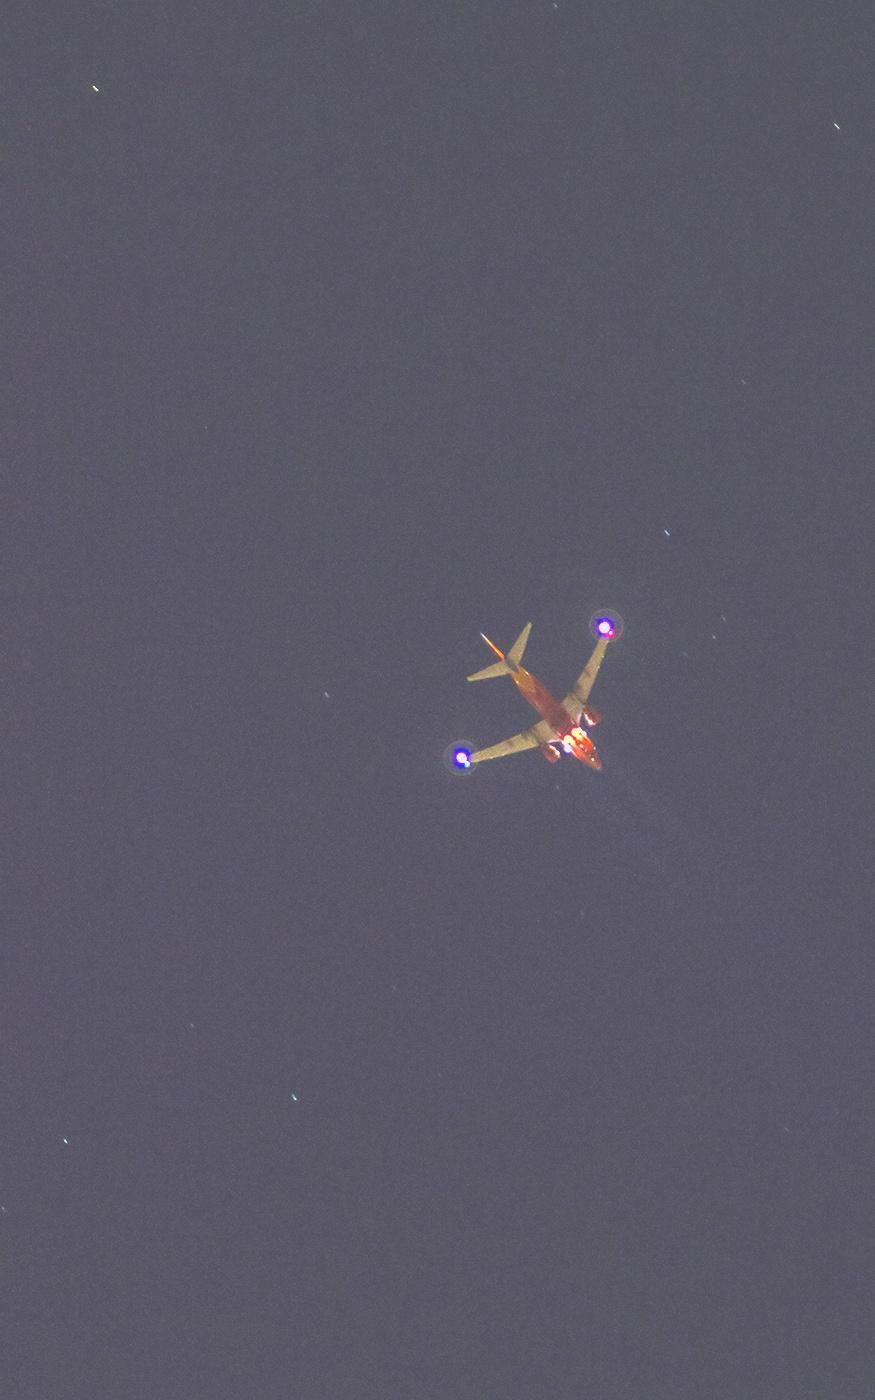Plane: (374, 527, 754, 872)
